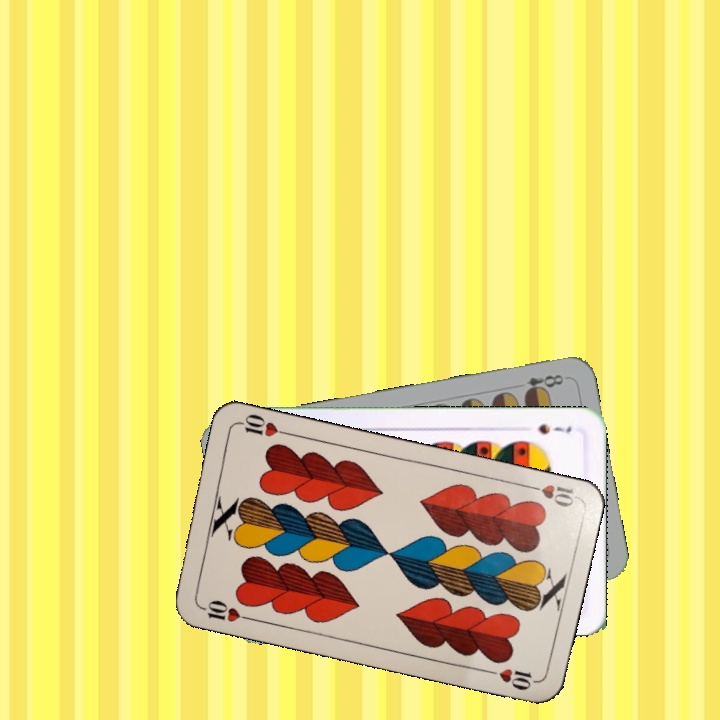E8: (520, 370, 569, 398)
H10: (520, 480, 579, 510), (196, 596, 254, 625)
S7: (534, 420, 574, 437)
